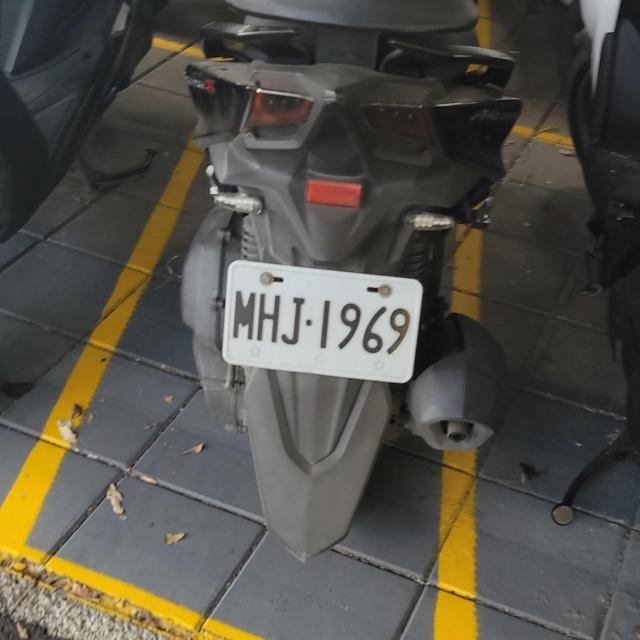W: (219, 255, 425, 384)
